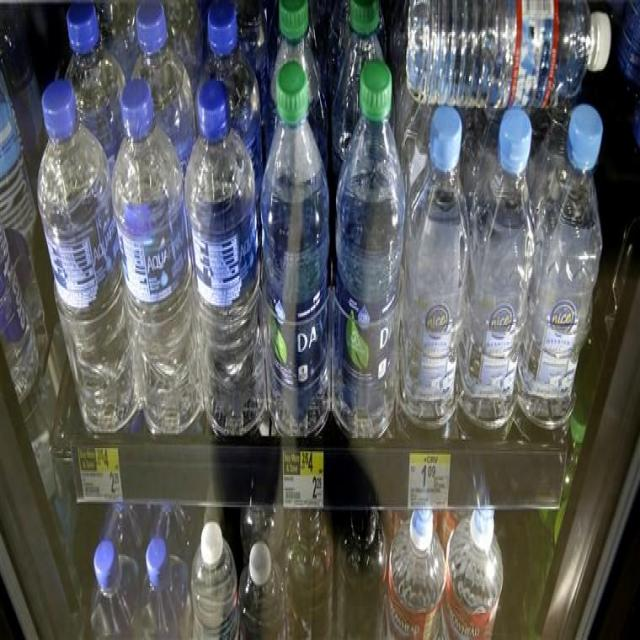plastic_bottle: (38, 85, 148, 415), (182, 62, 273, 444), (518, 85, 607, 456), (114, 83, 204, 438), (258, 52, 334, 456), (330, 58, 403, 447), (400, 1, 613, 131), (472, 110, 541, 443), (405, 112, 474, 436), (442, 499, 510, 640), (383, 493, 448, 640), (1, 230, 49, 409), (1, 41, 43, 238), (332, 503, 389, 640), (190, 508, 242, 640), (284, 511, 334, 640), (200, 10, 265, 108), (129, 7, 194, 103), (136, 533, 194, 640), (86, 533, 142, 640), (273, 3, 327, 108), (61, 5, 122, 96), (237, 528, 284, 640), (332, 2, 394, 81), (621, 1, 640, 85)
